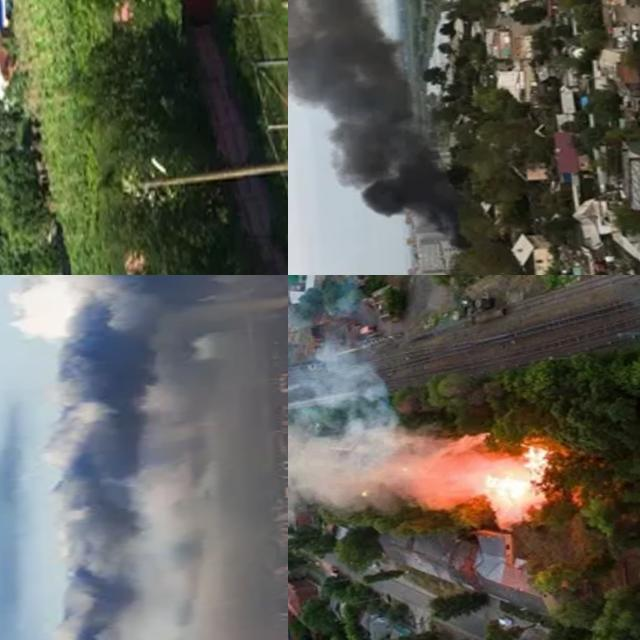smoke: (0, 275, 288, 541), (288, 337, 489, 543), (288, 0, 452, 237)
